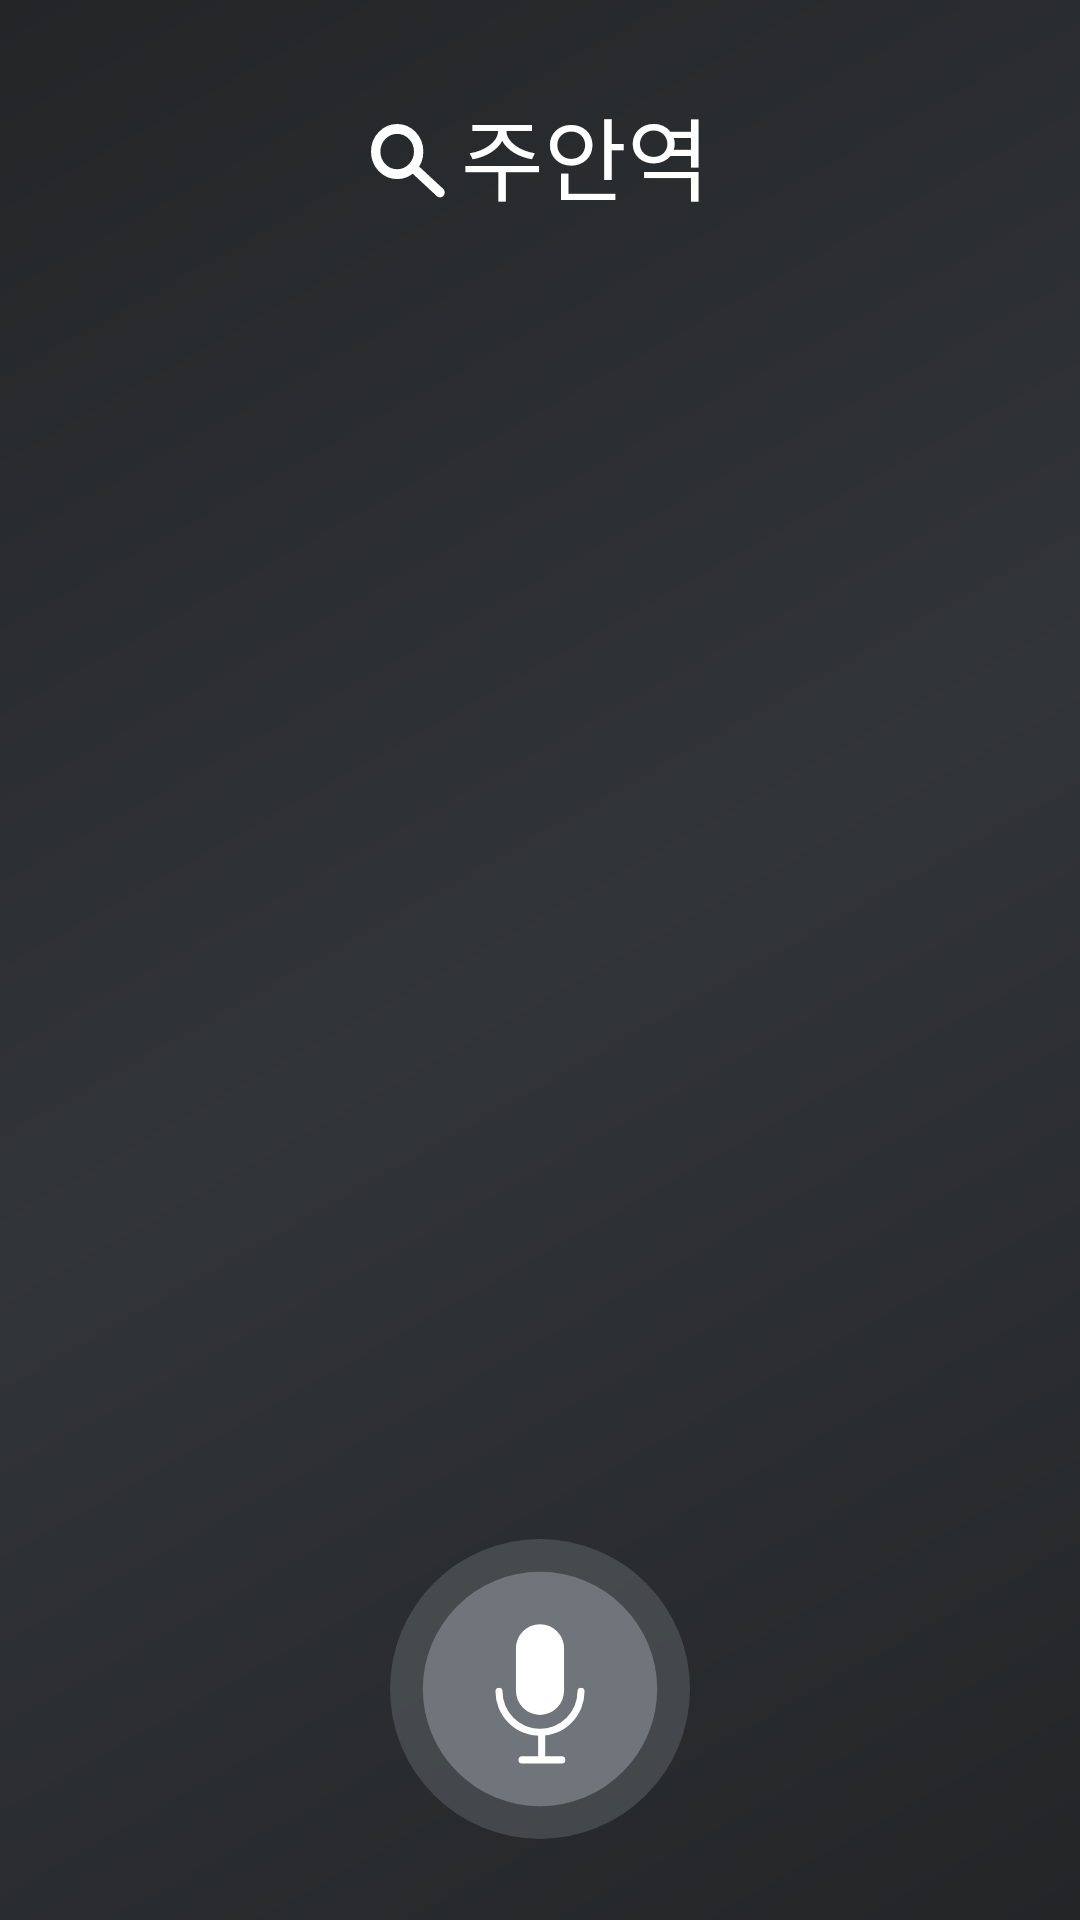

Where icons sit on this 1080*1920 app screen, as box(x1, y1, x2, y2):
search: box(371, 124, 445, 198)
음성인식 버튼입니다. 누르거나 화면을 흔들어주세요: box(390, 1539, 690, 1839)
